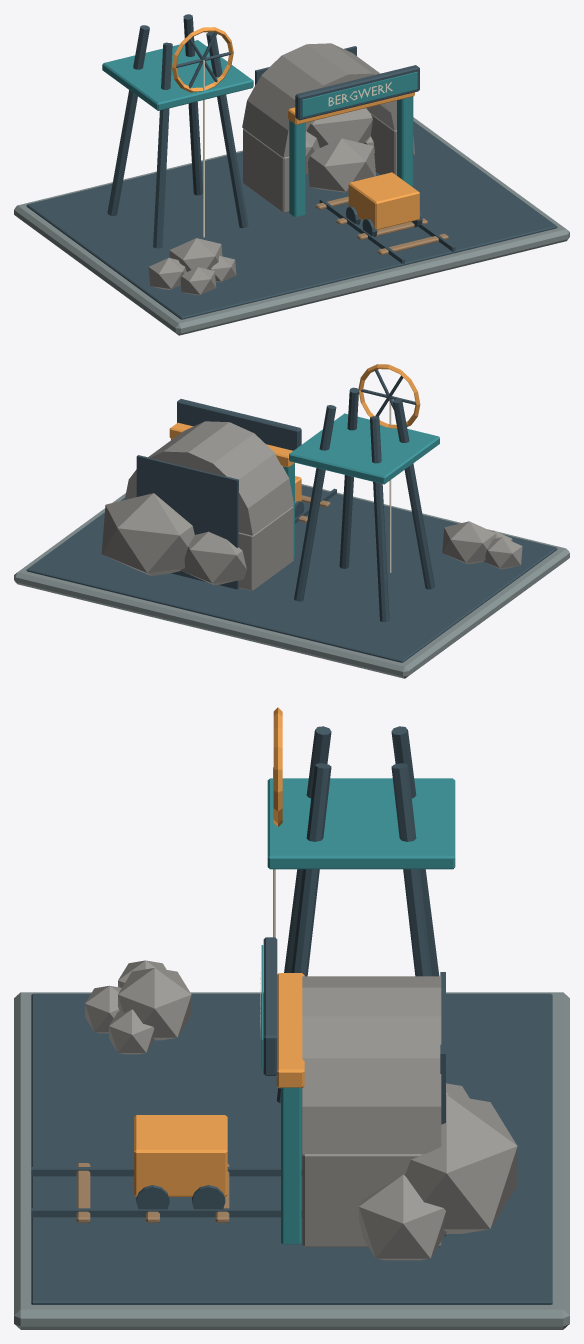
The model's file is mine.glb.
3 renders of one model, top to bottom at view 1: azimuth 30°, elevation 25°; view 2: azimuth 150°, elevation 25°; view 3: azimuth 270°, elevation 25°, orthographic. The views are drawn at different scales.
Parts seen in each view (by area): view 1: mine; view 2: mine; view 3: mine.
Part boxes in pixels (<box>): mine: <box>14,14,569,335</box>; mine: <box>14,364,569,678</box>; mine: <box>14,707,569,1329</box>.
Size of the model in its own units: 11 by 6.06 by 8.
